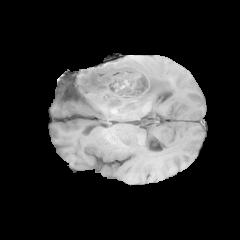glioma: (60, 60, 175, 121)
